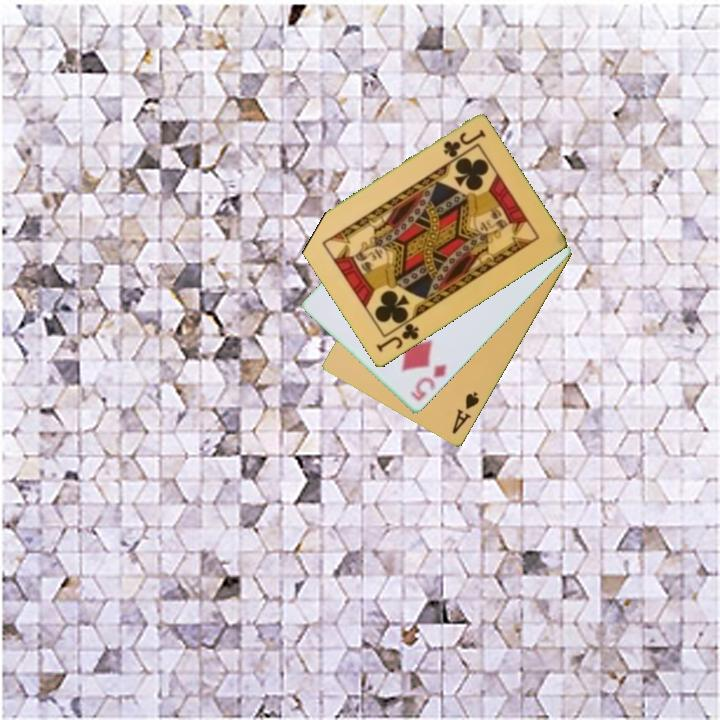5d: (406, 361, 449, 404)
As: (448, 388, 482, 437)
Jc: (372, 320, 422, 356), (439, 126, 488, 161)
